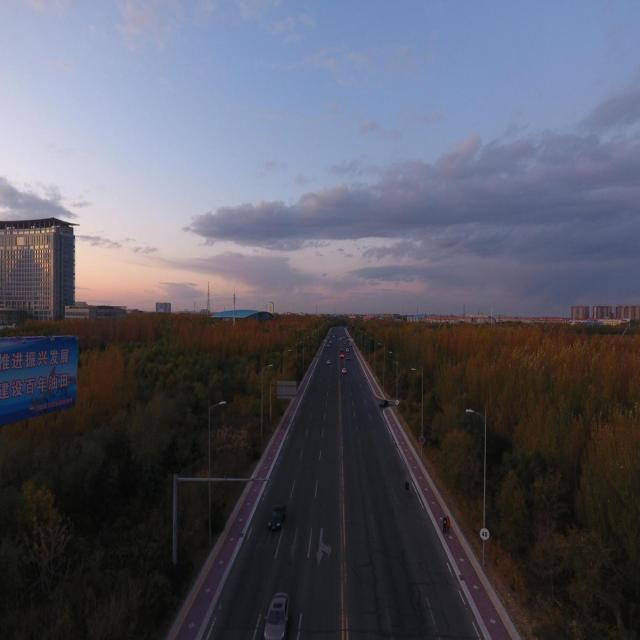car: (264, 592, 290, 639), (267, 503, 286, 531)
tree: (352, 318, 639, 638)
